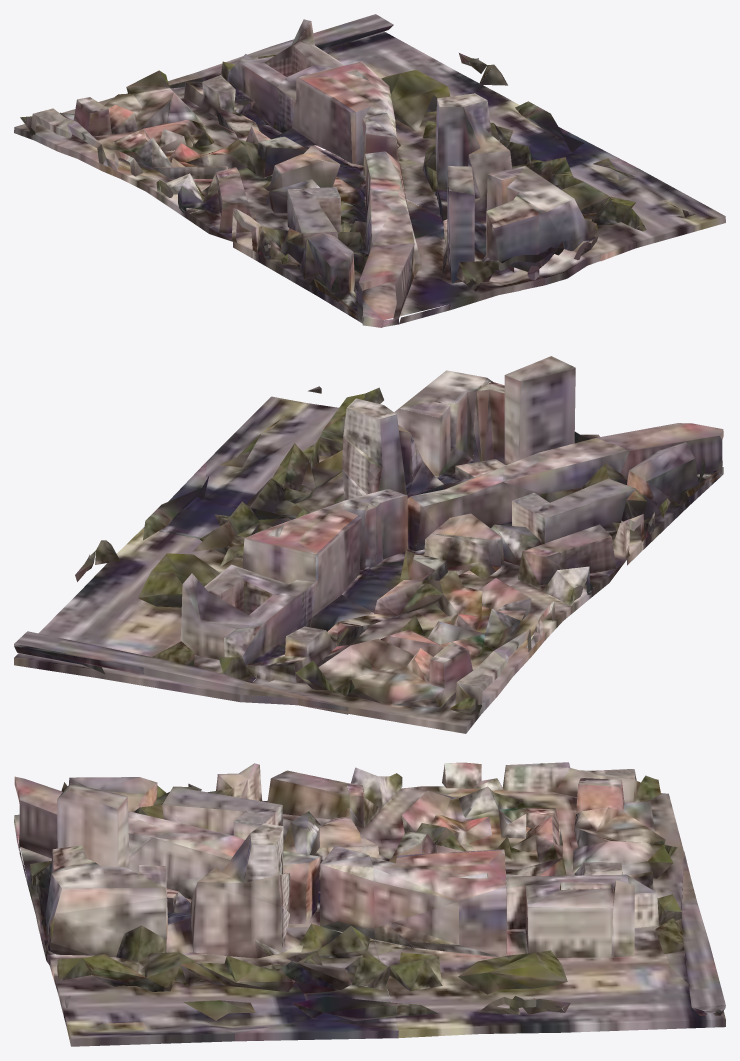
The picture shows the model from 3 angles, top to bottom: view 1: azimuth 30°, elevation 25°; view 2: azimuth 150°, elevation 25°; view 3: azimuth 270°, elevation 25°; orthographic projection. The views are drawn at different scales.
Parts seen in each view (by area): view 1: Mesh_0; view 2: Mesh_0; view 3: Mesh_0.
Boxes of the visible parts, x1,y1,x2,y2 form: Mesh_0: (14, 14, 725, 327); Mesh_0: (14, 356, 723, 733); Mesh_0: (14, 762, 725, 1046).
Size of the model in its own units: 266 by 65.79 by 330.
2 materials, 2 textured.
